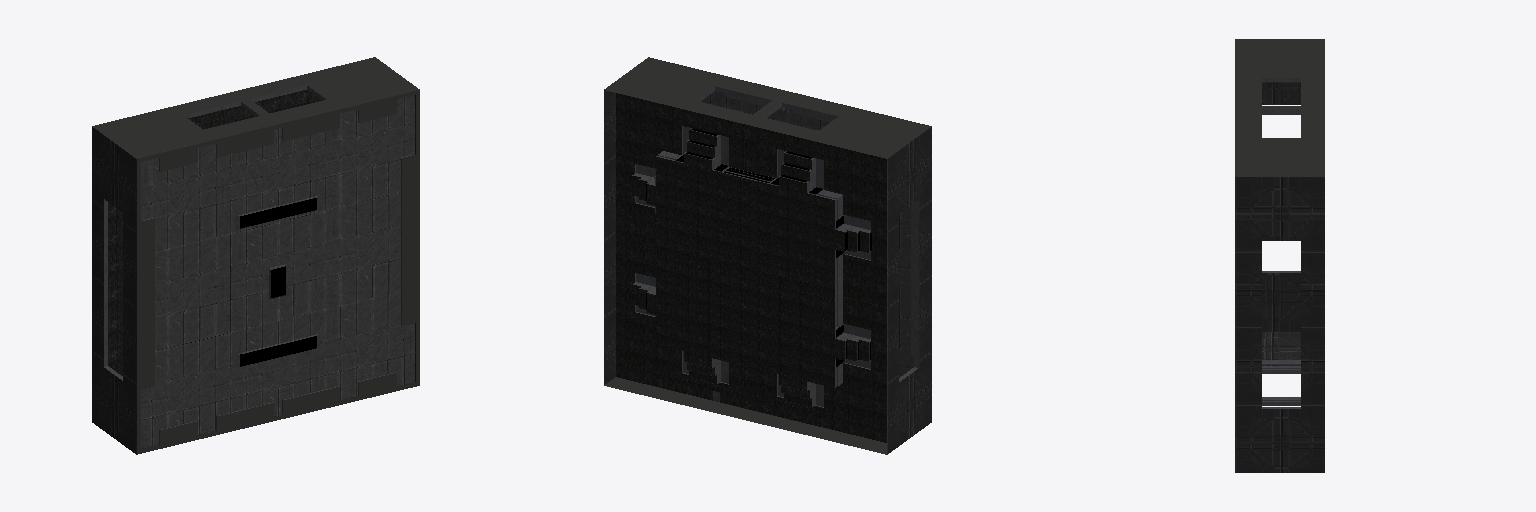
3 renders of one model, left to right at view 1: azimuth 30°, elevation 25°; view 2: azimuth 150°, elevation 25°; view 3: azimuth 270°, elevation 25°, orthographic.
Parts seen in each view (by area): view 1: Room_Grid; view 2: Room_Grid; view 3: Room_Grid.
Part boxes in pixels (bbox=[...]): Room_Grid: bbox=[92, 57, 419, 454]; Room_Grid: bbox=[604, 57, 931, 454]; Room_Grid: bbox=[1235, 39, 1324, 472].
Size of the model in its own units: 193 by 193 by 53.04.
Materials: 9 (1 with a texture image).